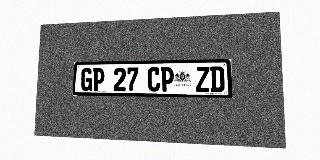2: (113, 68, 126, 91)
7: (126, 67, 139, 91)
C: (147, 67, 160, 92)
D: (210, 66, 225, 92)
G: (81, 68, 93, 91)
P: (161, 67, 174, 92), (92, 68, 105, 91)
Z: (196, 66, 210, 92)
